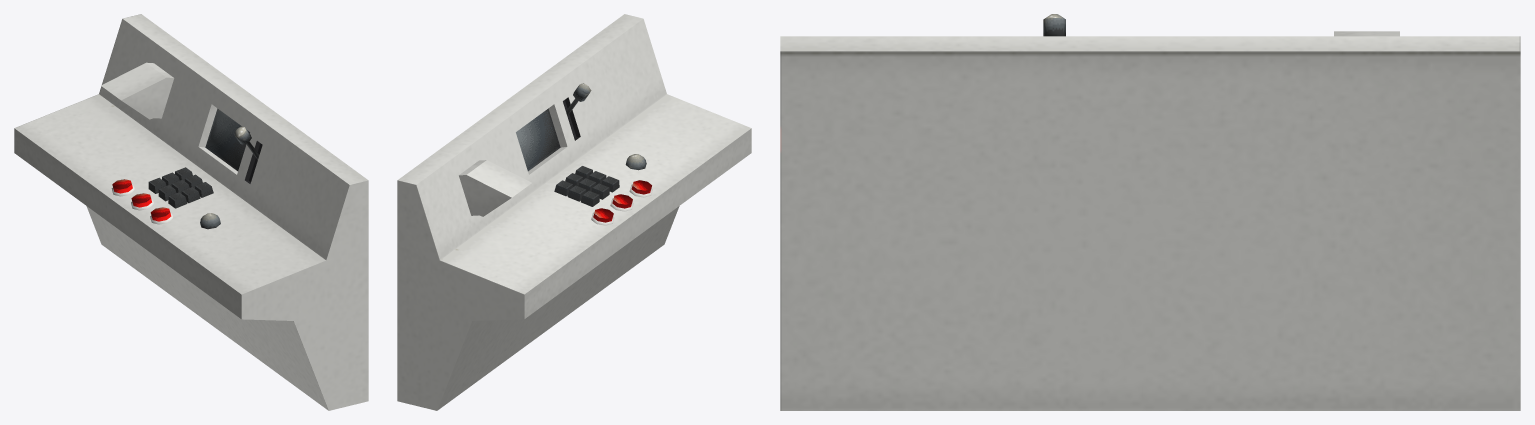
Rendered from SM_Desk.fbx.
3 renders of one model, left to right at view 1: azimuth 30°, elevation 25°; view 2: azimuth 150°, elevation 25°; view 3: azimuth 270°, elevation 25°, orthographic. The views are drawn at different scales.
Parts seen in each view (by area): view 1: Desk; view 2: Desk; view 3: Desk.
Boxes of the visible parts, x1,y1,x2,y2 form: Desk: (14, 14, 368, 410); Desk: (397, 14, 751, 410); Desk: (780, 14, 1520, 410).
Size of the model in its own units: 59.59 by 185 by 99.52.
